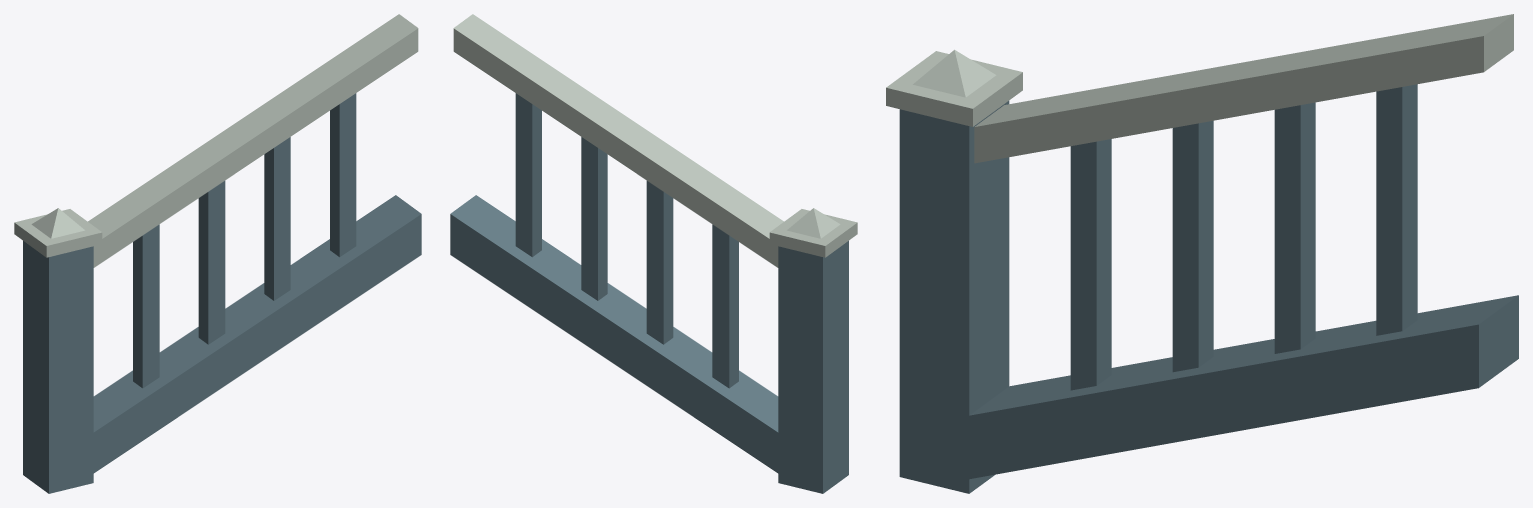
The model's file is rail_stair_22deg_2m.glb.
The picture shows the model from 3 angles, left to right: view 1: azimuth 30°, elevation 25°; view 2: azimuth 150°, elevation 25°; view 3: azimuth 330°, elevation 25°; orthographic projection. The views are drawn at different scales.
Parts seen in each view (by area): view 1: RailStair22Deg2M / Stone, RailStair22Deg2M / Coping; view 2: RailStair22Deg2M / Stone, RailStair22Deg2M / Coping; view 3: RailStair22Deg2M / Stone, RailStair22Deg2M / Coping.
Boxes of the visible parts, <box> form: RailStair22Deg2M / Stone: <box>23,93,421,493</box>; RailStair22Deg2M / Coping: <box>14,14,418,267</box>; RailStair22Deg2M / Stone: <box>450,93,848,493</box>; RailStair22Deg2M / Coping: <box>453,14,857,267</box>; RailStair22Deg2M / Stone: <box>899,84,1518,493</box>; RailStair22Deg2M / Coping: <box>886,14,1513,163</box>.
Bounding box in the file's own units: 2.03 × 1.91 × 0.3.
